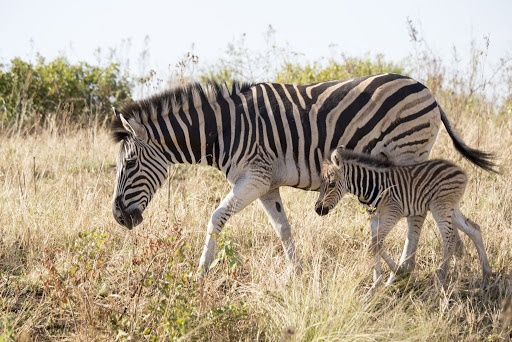zebra: (109, 71, 484, 285), (313, 145, 491, 289)
